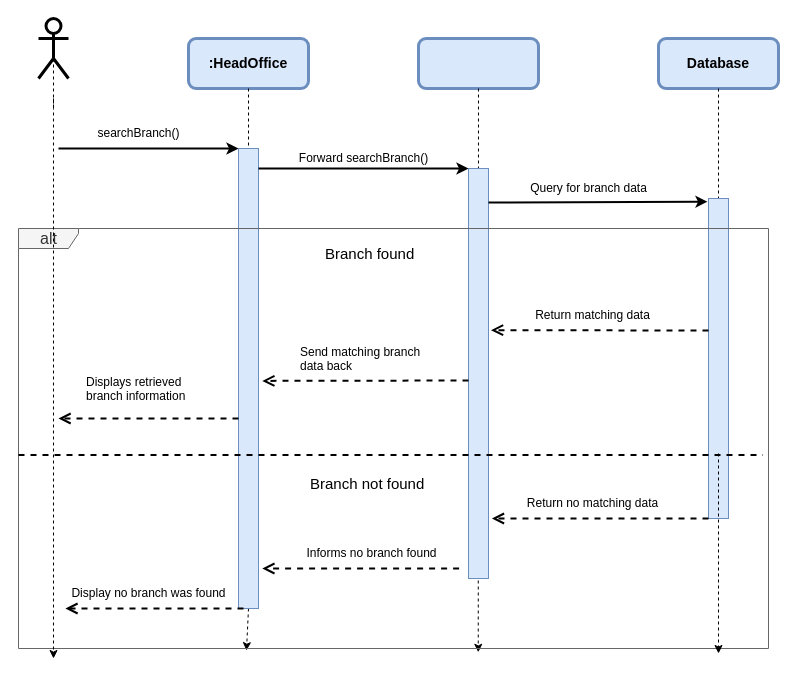
The diagram is 797 pixels wide and 684 high, and some of its shapes have lost their labels. Here are the shapes that lost their labels. From the top down, the centre of each, then its label:
At [53,48]: "HeadOffice".
At [478,63]: "Server".
